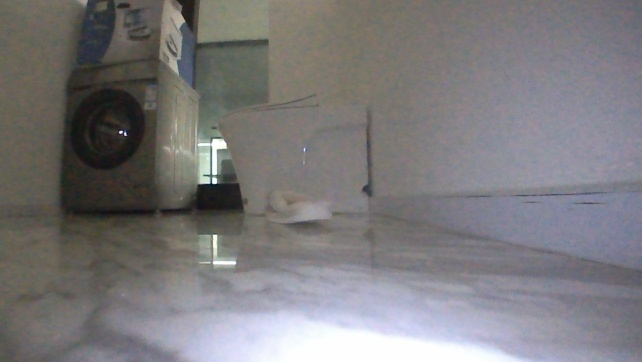shoe: (264, 186, 333, 224)
toilet: (214, 88, 370, 215)
washing_machine: (59, 56, 201, 215)
